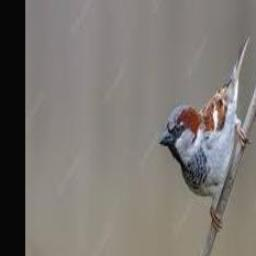Sparrow: (159, 36, 251, 231)
